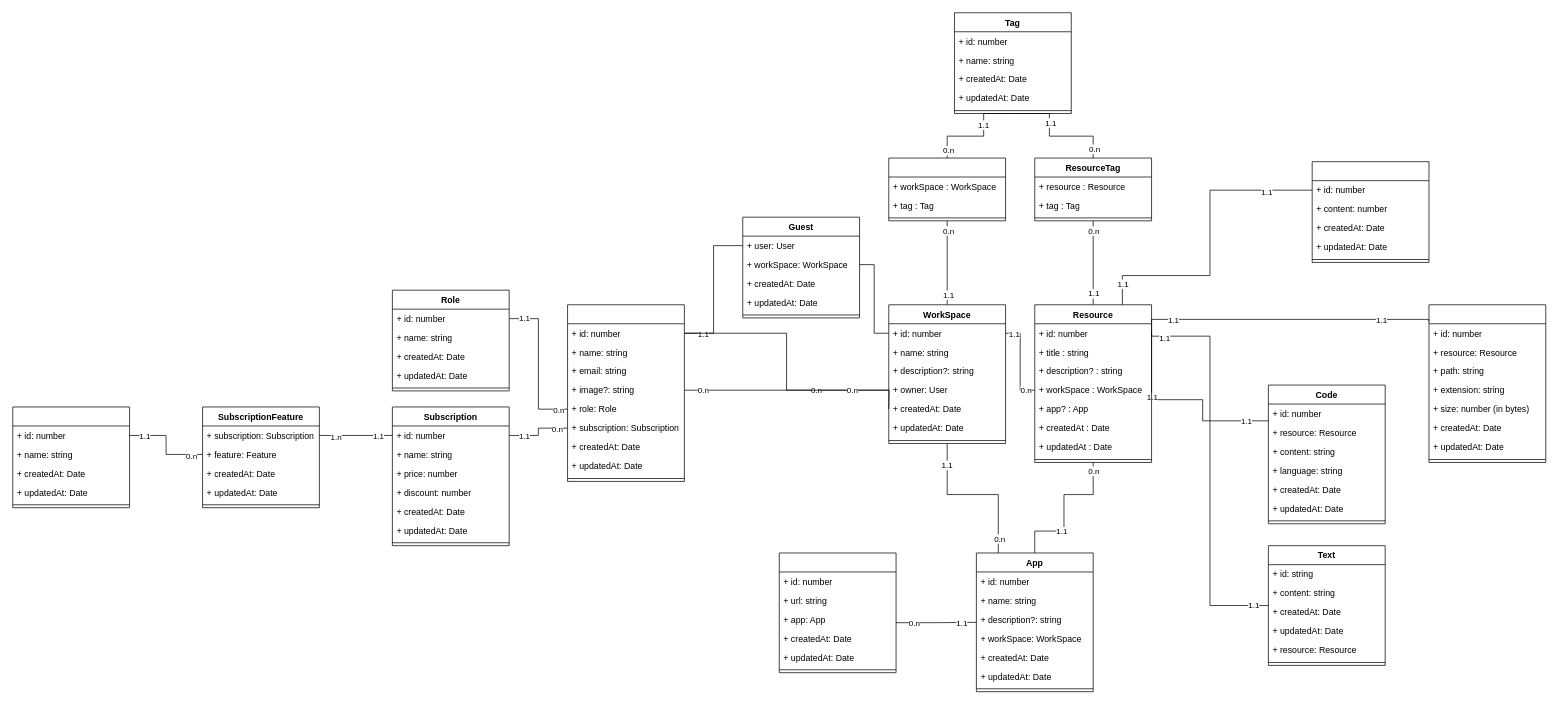
Some shapes in this 1559 by 704 pixel diagram are drawn without their labels. The shapes that lost their labels are listed below. From the top down, each one's box as (x1, y1, x2, y2) in pixels, then its label:
(888, 157, 1006, 221): ProjectTag
(1311, 161, 1429, 262): Link
(567, 304, 684, 481): User
(1428, 304, 1546, 462): File
(12, 406, 130, 508): Feature
(779, 552, 896, 673): WebHook
